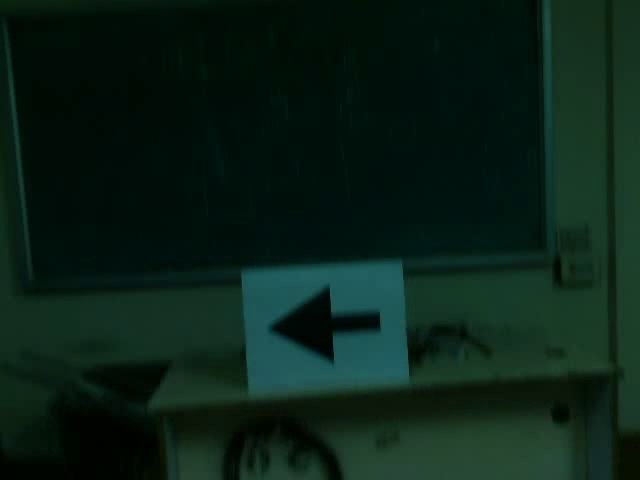Left: (261, 280, 388, 367)
